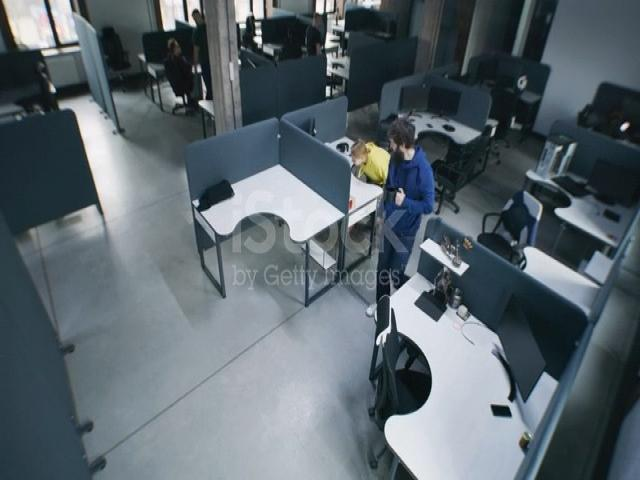EMPTY_CHAIR: (344, 259, 462, 480), (478, 184, 546, 280), (421, 134, 473, 232), (22, 34, 58, 119), (311, 40, 361, 101), (98, 13, 133, 100), (487, 78, 528, 152)
PERSON_IN_CHAIR: (338, 115, 396, 216), (154, 32, 193, 115), (580, 95, 640, 134)
